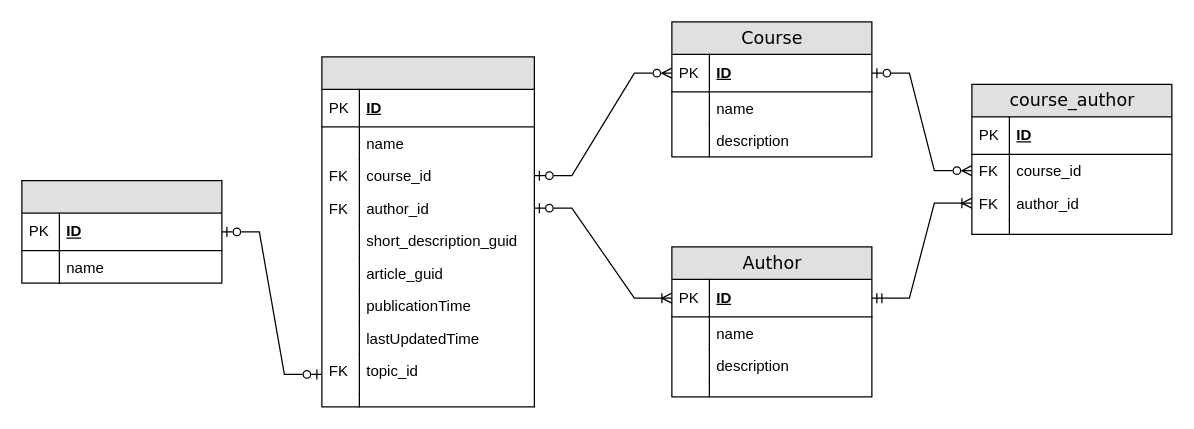
The diagram is 1194 pixels wide and 429 high, and some of its shapes have lost their labels. The shapes that lost their labels are listed below. From the top down, each one's box as (x1, y1, x2, y2) in pixels, then its label:
(21, 179, 222, 283): Topic
(321, 56, 534, 407): Video
